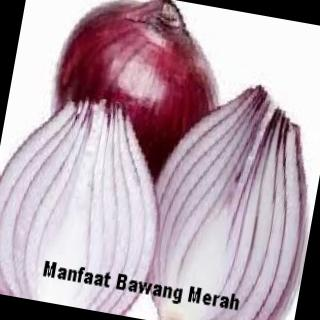Bawang Merah: (1, 1, 320, 320), (131, 68, 320, 320)
